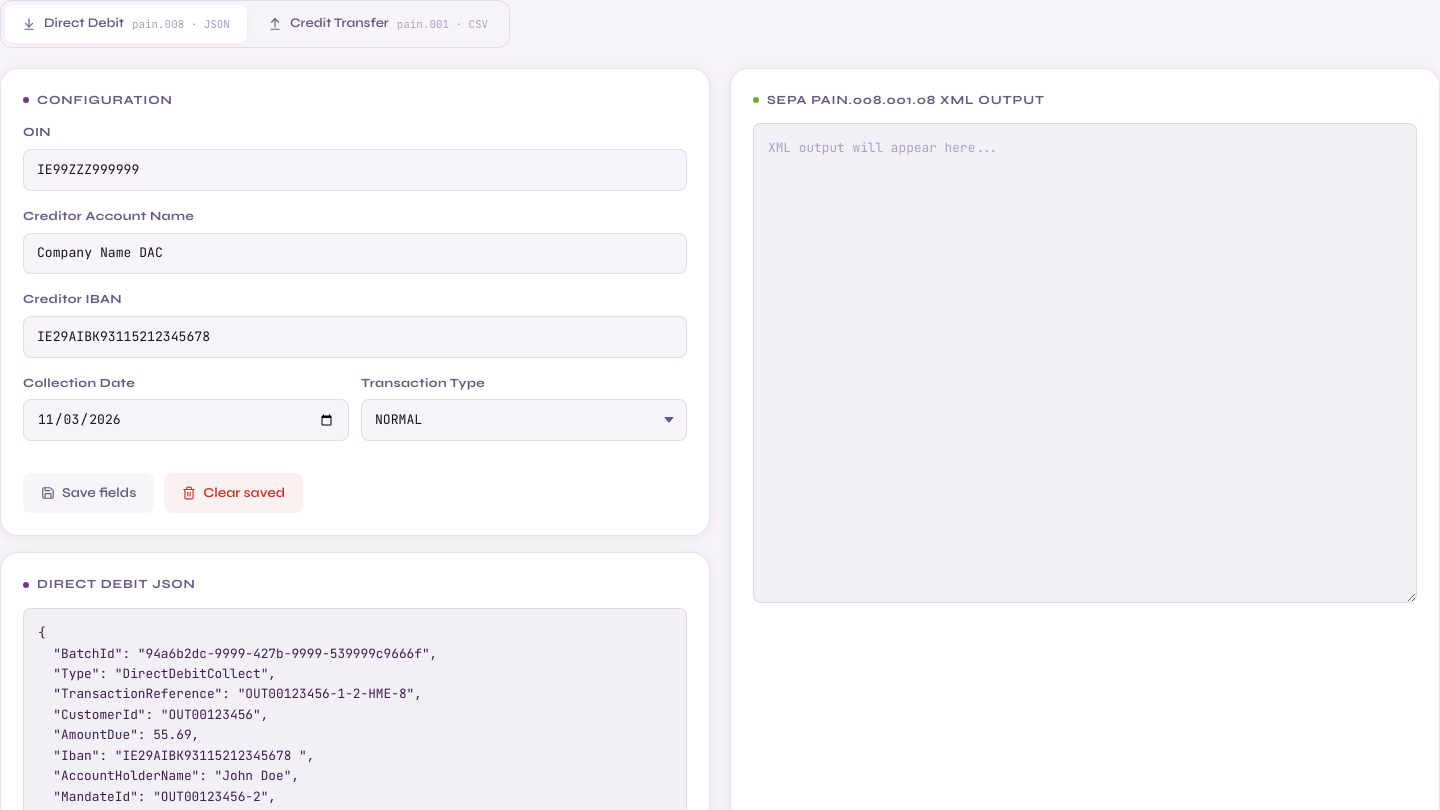
Test: SepaXmlGenerator › switches to the Credit Transfer generator
Click the tab "Credit Transfer pain.001 · CSV".
click(378, 24)  # box [251,5,505,43]
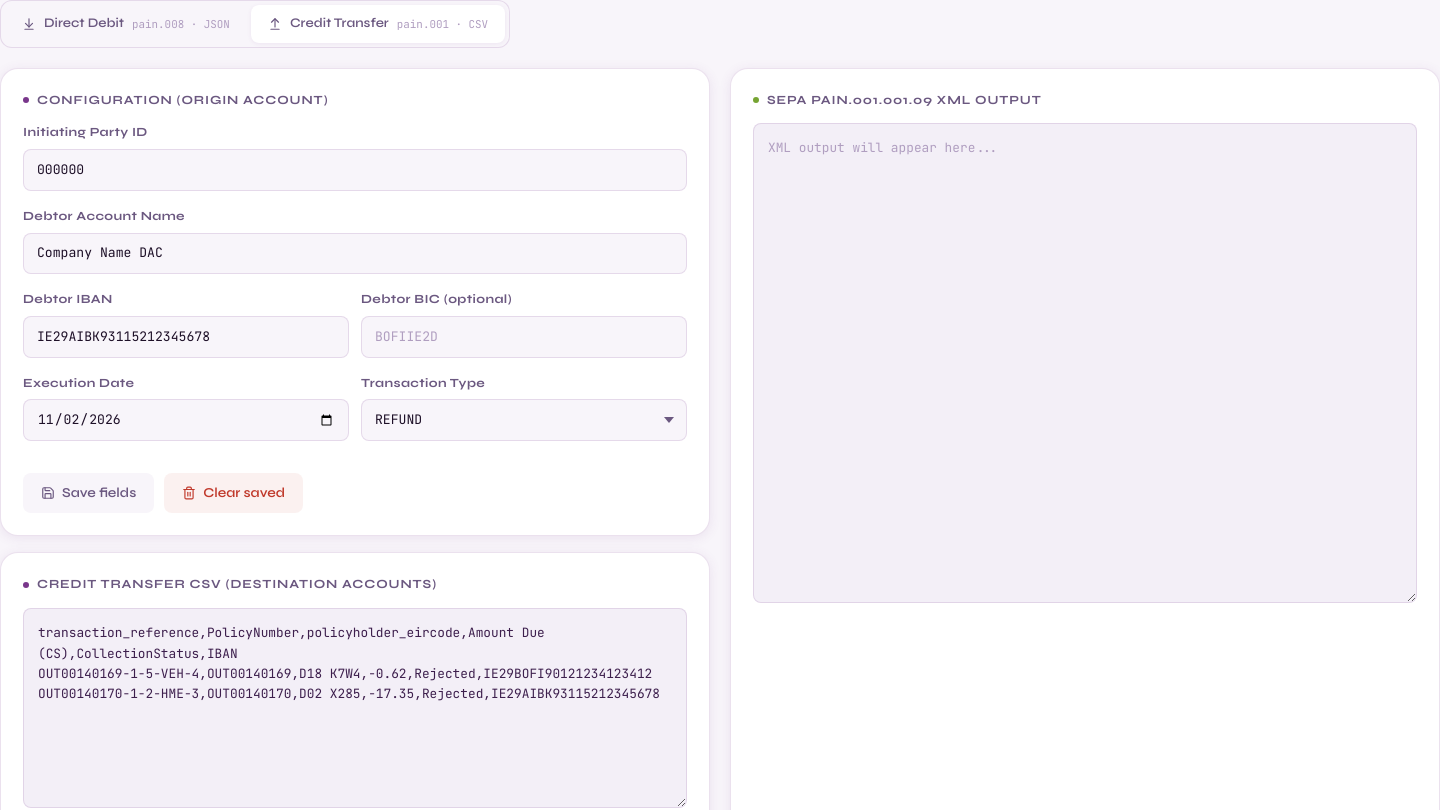
Check: the text box with placeholder "refund / payment CSV" is shown, box [23,608,687,808]
Check: the field with placeholder "Direct Debit JSON" is gone
